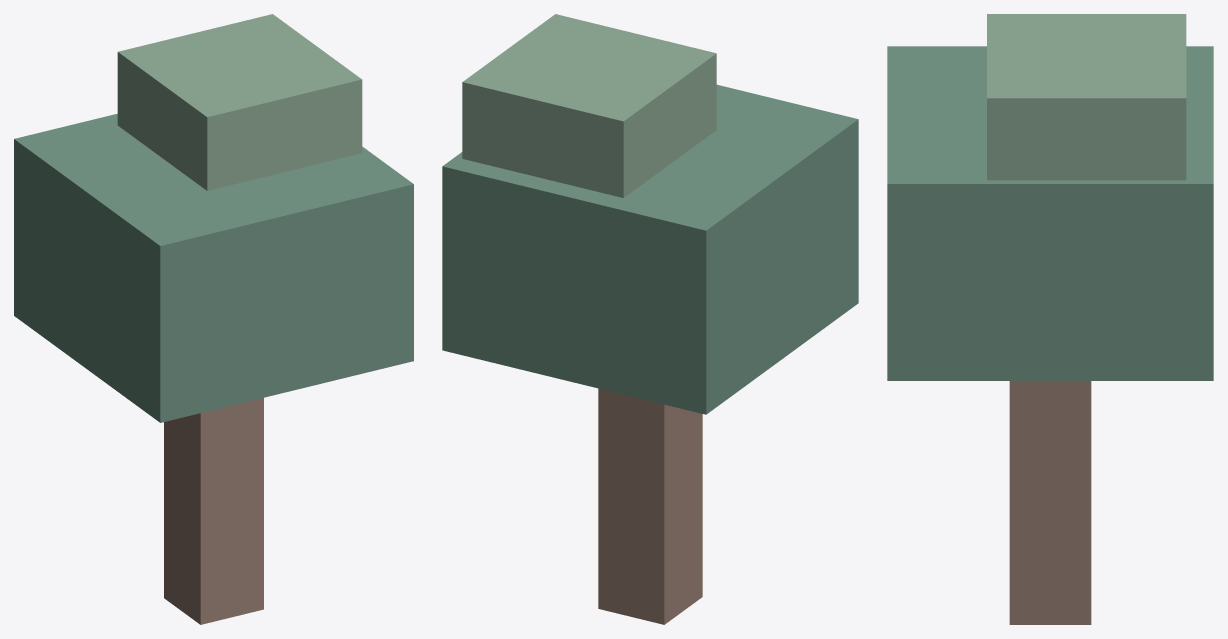
Rendered from prop_tree_oak.glb.
3 renders of one model, left to right at view 1: azimuth 30°, elevation 25°; view 2: azimuth 150°, elevation 25°; view 3: azimuth 270°, elevation 25°, orthographic. The views are drawn at different scales.
Visible parts, largest first — view 1: prop_tree_oak; view 2: prop_tree_oak; view 3: prop_tree_oak.
Boxes of the visible parts, bbox=[...] form: prop_tree_oak: bbox=[14, 14, 413, 624]; prop_tree_oak: bbox=[442, 14, 858, 624]; prop_tree_oak: bbox=[887, 14, 1213, 624].
Size of the model in its own units: 1.8 by 3.5 by 1.8.
